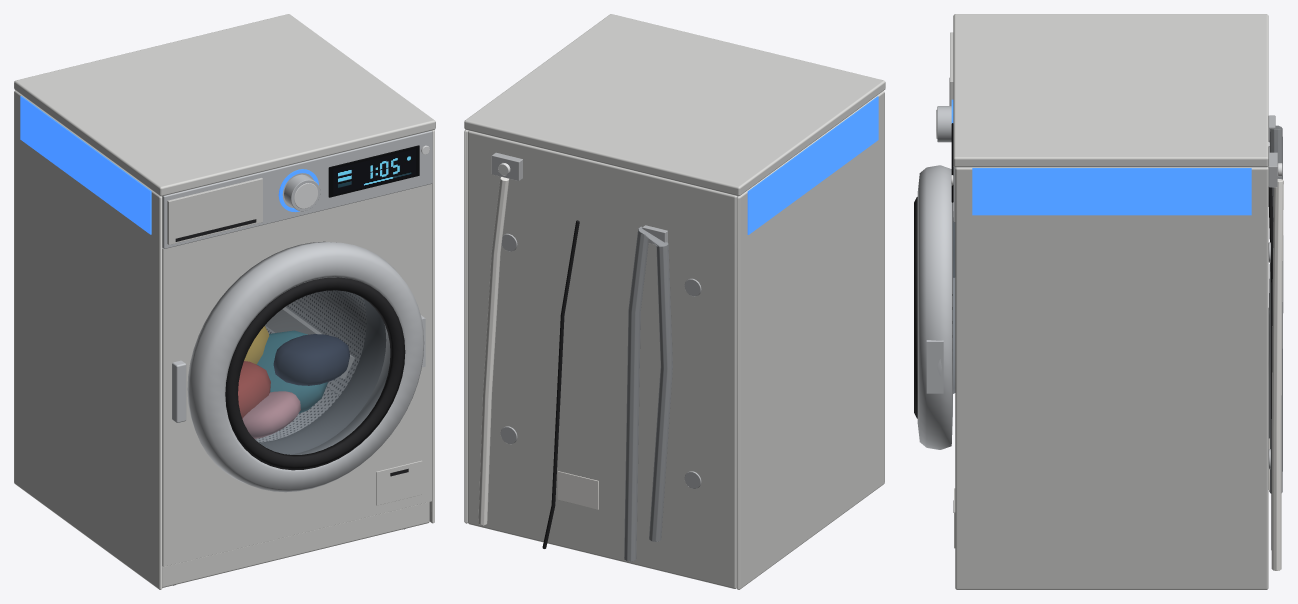
The model's file is washer.glb.
The picture shows the model from 3 angles, left to right: view 1: azimuth 30°, elevation 25°; view 2: azimuth 150°, elevation 25°; view 3: azimuth 270°, elevation 25°; orthographic projection. The views are drawn at different scales.
Visible parts, largest first — view 1: washer_cabinet, washer_front, washer_door_ring, washer_door_glass, washer_laundry, washer_door_bezel, washer_control_panel, washer_status_bar, washer_drum_shell, washer_gasket, washer_drawer, washer_display (+2 smaller); view 2: washer_cabinet, washer_rear, washer_status_bar; view 3: washer_cabinet, washer_status_bar, washer_door_ring, washer_rear, washer_door_bezel, washer_dial, washer_door_glass.
Boxes of the visible parts, box(x1,y1,x2,y2) form: washer_cabinet: box(14, 14, 435, 589); washer_front: box(162, 184, 431, 566); washer_door_ring: box(187, 241, 425, 492); washer_door_glass: box(238, 290, 389, 454); washer_laundry: box(238, 326, 349, 438); washer_door_bezel: box(225, 277, 405, 470); washer_control_panel: box(162, 130, 432, 248); washer_status_bar: box(20, 96, 151, 234); washer_drum_shell: box(255, 290, 366, 442); washer_gasket: box(258, 299, 386, 454); washer_drawer: box(167, 178, 262, 244); washer_display: box(333, 149, 415, 194); washer_cabinet: box(464, 14, 885, 589); washer_rear: box(478, 152, 701, 561); washer_status_bar: box(747, 96, 878, 234); washer_cabinet: box(953, 14, 1268, 589); washer_status_bar: box(972, 168, 1251, 215); washer_door_ring: box(917, 165, 952, 449); washer_rear: box(1268, 115, 1283, 570); washer_door_bezel: box(914, 197, 917, 418); washer_dial: box(936, 106, 953, 202); washer_door_glass: box(953, 221, 955, 393).
Bounding box in the file's own units: 0.605 × 0.85 × 0.6486.
24 materials, 2 textured.
